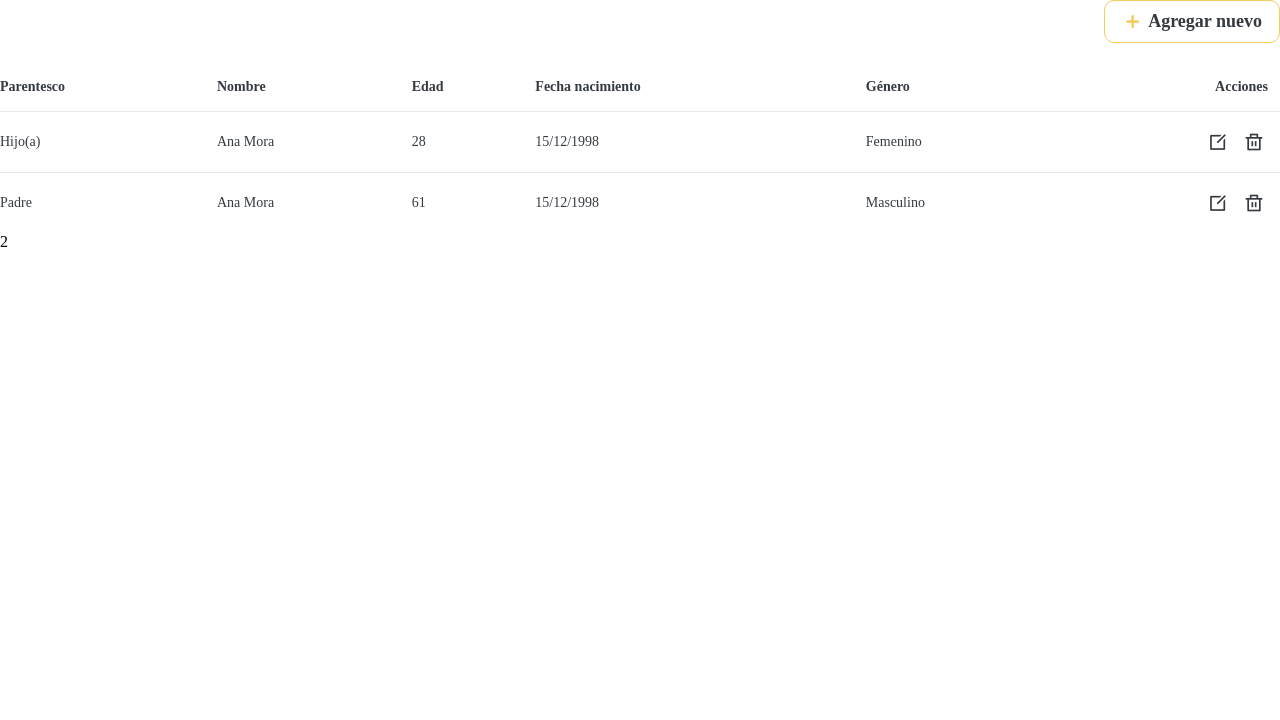
it: Family (paso 2) › rejects editing a member into a duplicate of another
Click the button named "Editar Ana Mora" in the row of "Padre". click: (1218, 203)
box: [1204,189,1232,217]
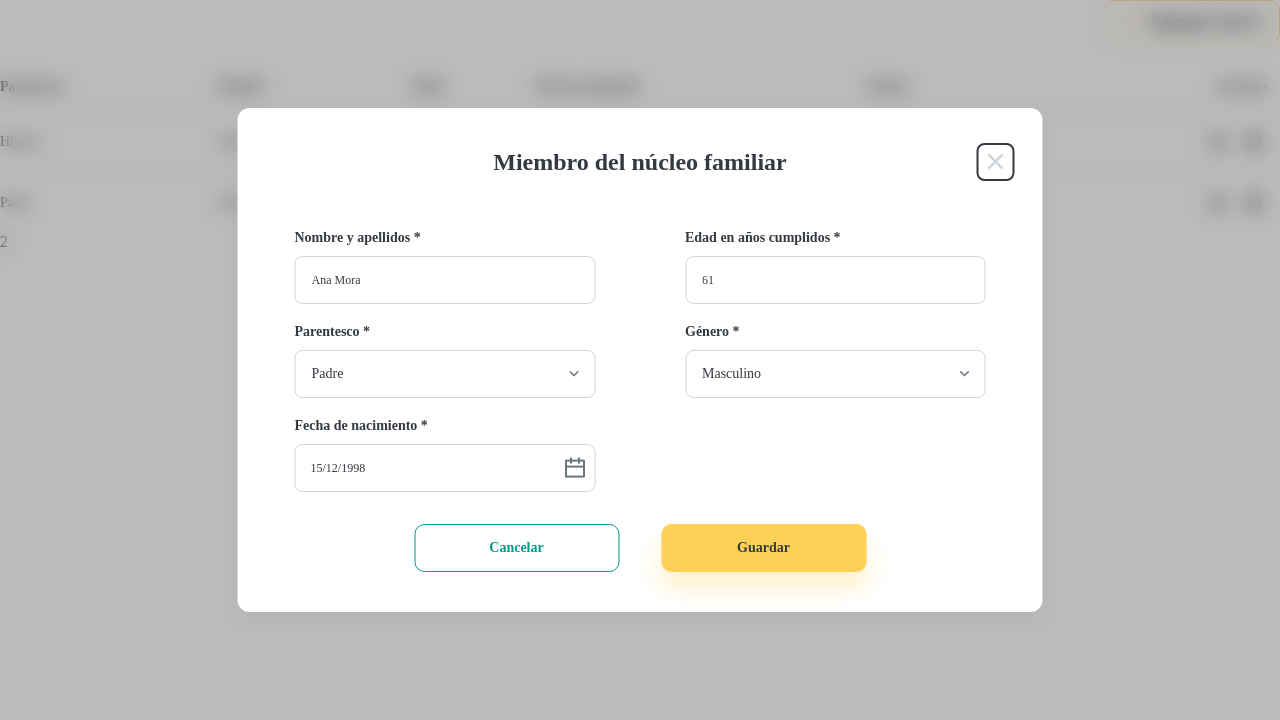
Click the button "Guardar". click: (764, 548)
box: [661,524,866,572]
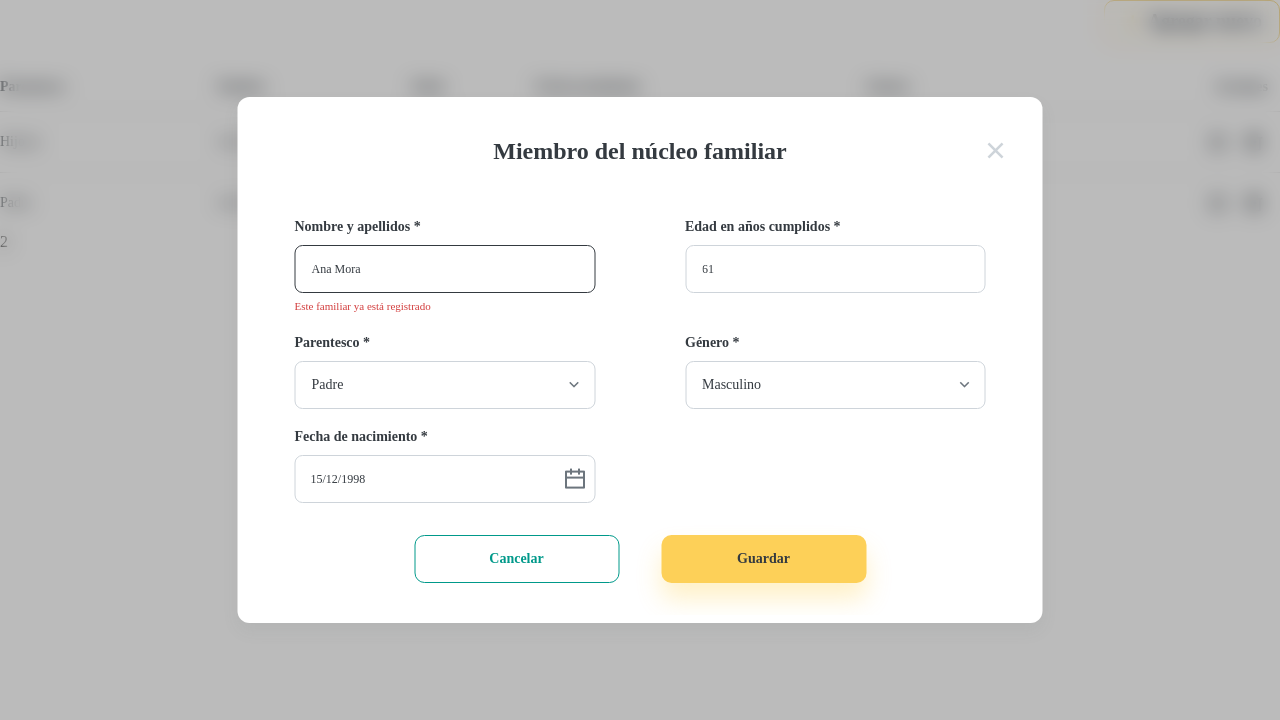
Check: the text "Este familiar ya está registrado" is shown, box [294,297,431,315]
